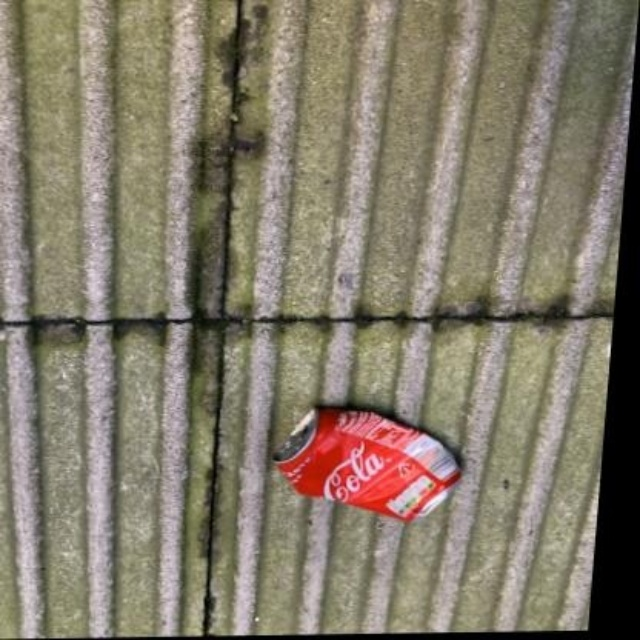trash: (272, 406, 460, 520)
